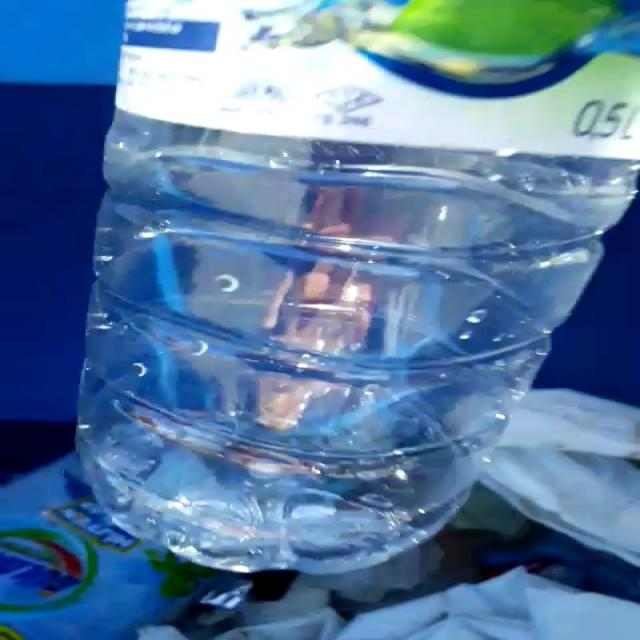plastic: (76, 0, 640, 575)
